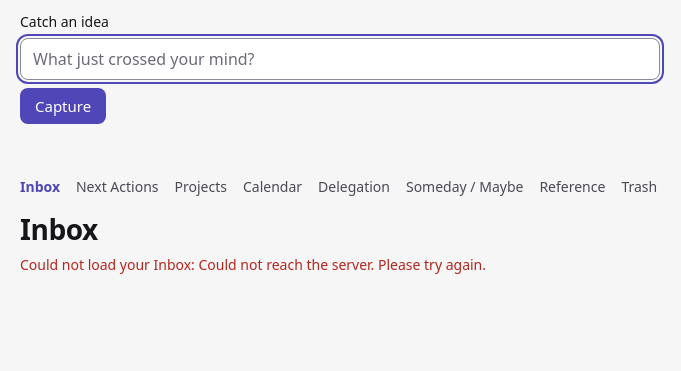
when the Inbox fails to load › keeps a captured item visible instead of hiding the whole list
Expected: the text "Could not load your Inbox" is shown, [20, 255, 198, 274]
Type "captured despite the error" into the field labelled "Catch an idea" at coordinates (340, 59), box [20, 38, 660, 80]
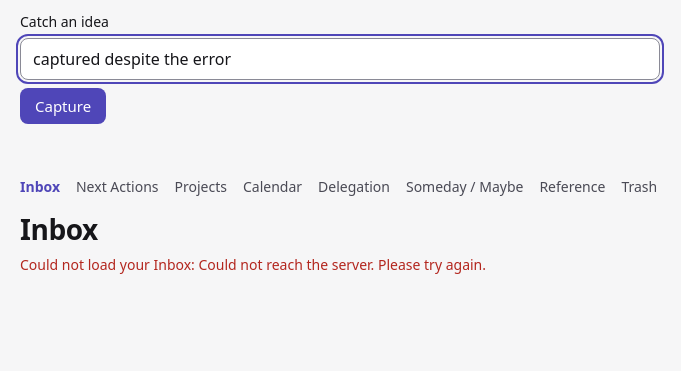
Click the button "Capture" at coordinates (63, 106), box [20, 88, 106, 124]
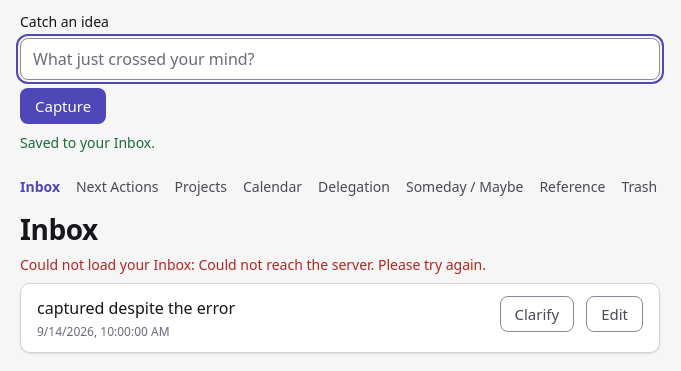
Expected: the text "Saved to your Inbox." is shown, [20, 133, 155, 152]
Expected: the text "captured despite the error" is shown, [37, 297, 235, 319]
